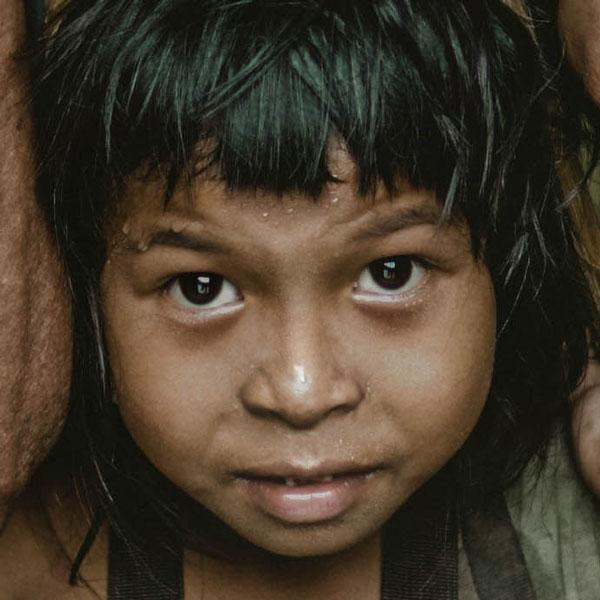Eyes: (136, 258, 258, 333), (334, 244, 452, 314)
